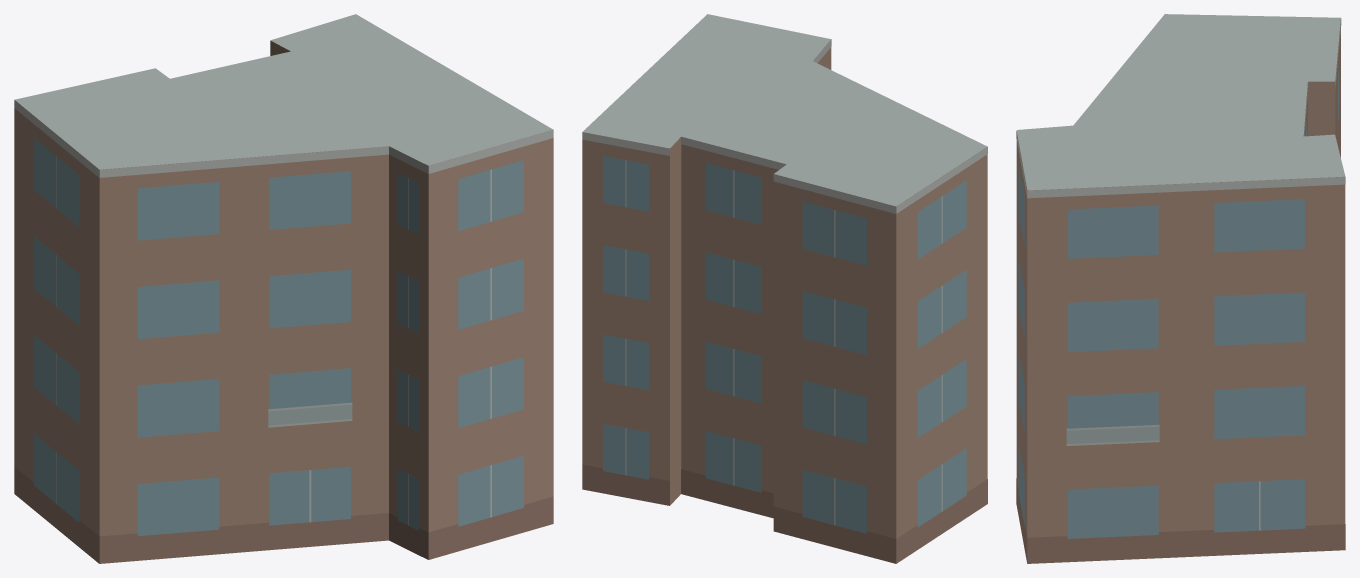
Rendered from survey-upis-32470539.glb.
3 views of the same model, side by side, from view 1: azimuth 30°, elevation 25°; view 2: azimuth 150°, elevation 25°; view 3: azimuth 270°, elevation 25° (orthographic). The views are drawn at different scales.
Visible parts, largest first — view 1: survey-upis-32470539.tmp; view 2: survey-upis-32470539.tmp; view 3: survey-upis-32470539.tmp.
Part boxes in pixels (x1,y1,x2,y2): survey-upis-32470539.tmp: (14, 14, 553, 563); survey-upis-32470539.tmp: (582, 14, 987, 563); survey-upis-32470539.tmp: (1016, 14, 1345, 563).
Bounding box in the file's own units: 11.76 × 11.6 × 9.27.
